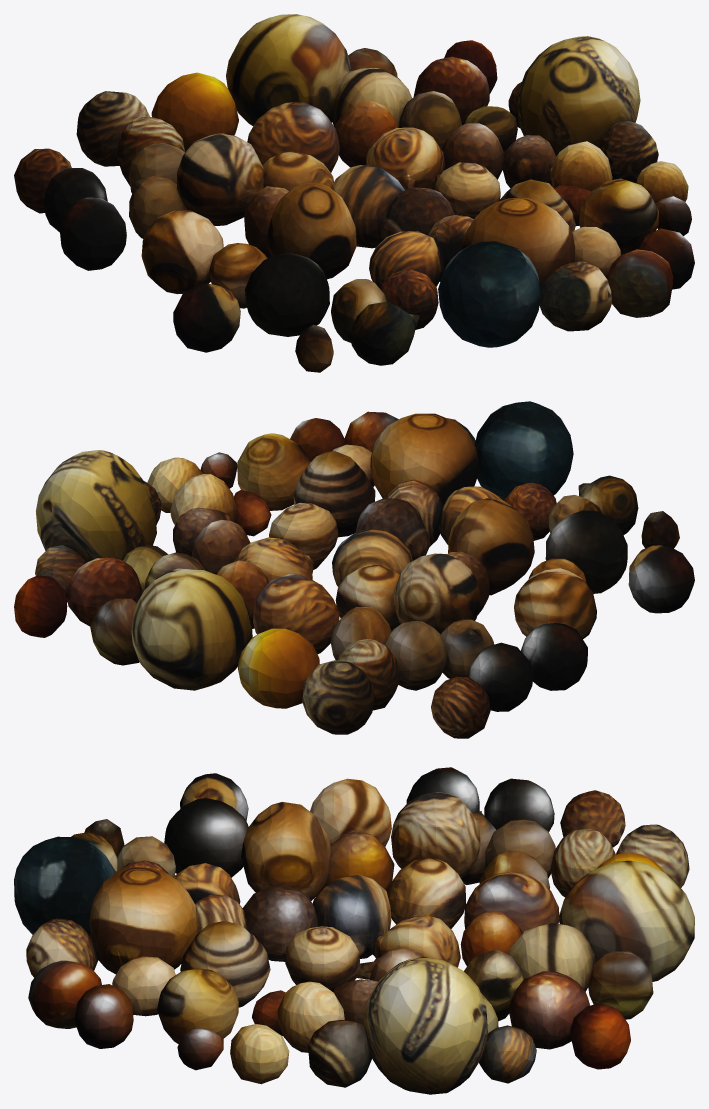
The model's file is wooden-handmade-marbles-run-vintage.jpeg.glb.
The picture shows the model from 3 angles, top to bottom: view 1: azimuth 30°, elevation 25°; view 2: azimuth 150°, elevation 25°; view 3: azimuth 270°, elevation 25°; orthographic projection. The views are drawn at different scales.
Visible parts, largest first — view 1: world; view 2: world; view 3: world.
Part boxes in pixels (box(x1,y1,x2,y2)): world: box(14, 14, 694, 372); world: box(14, 401, 694, 738); world: box(14, 767, 694, 1094).
Bounding box in the file's own units: 0.9696 × 0.2039 × 0.985.
Materials: 1 (1 with a texture image).
